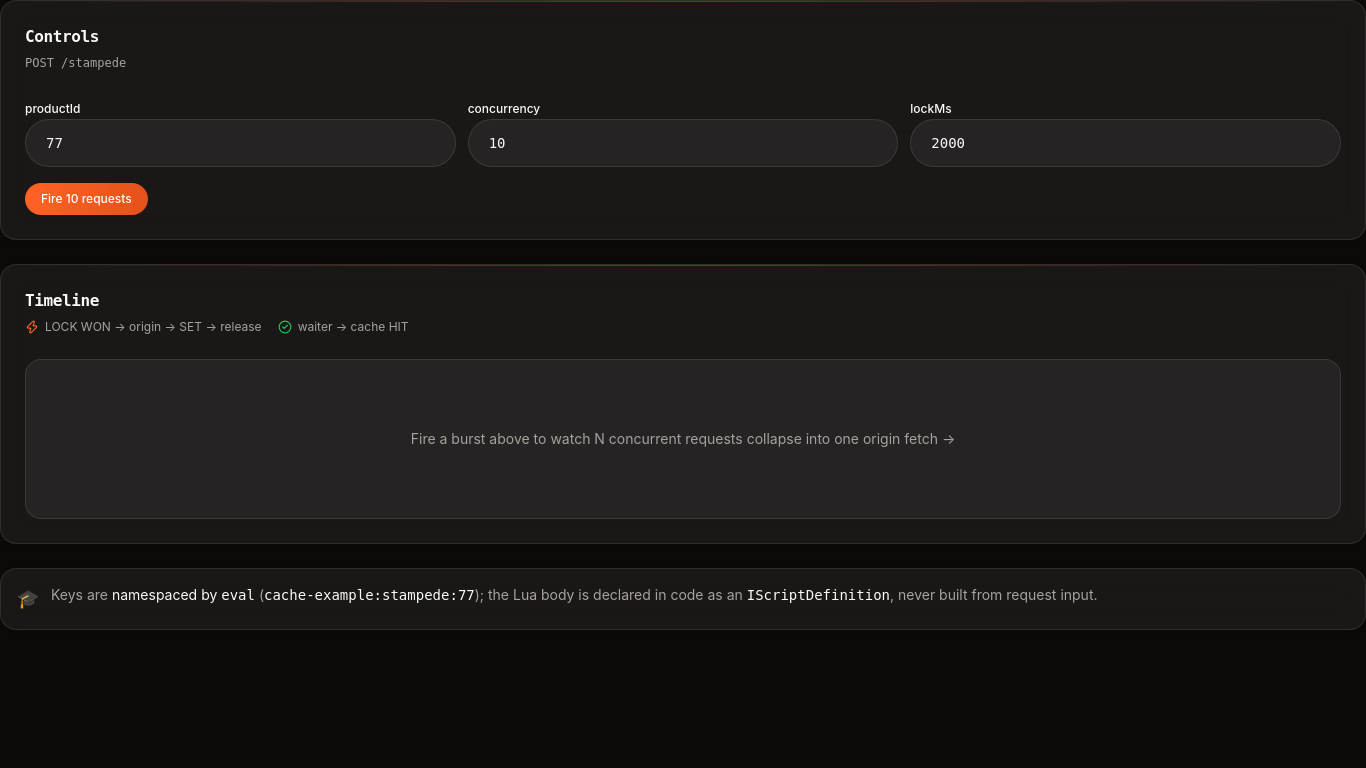
StampedeView › runs a burst and renders the timeline, result strip, script SHA, and reduction
The width and height of the screenshot is (1366, 768).
What coordinates should you click on to do the following:
click the button "Fire 10 requests"
I would click on:
 (86, 199)
Its box is [25,183,148,215].
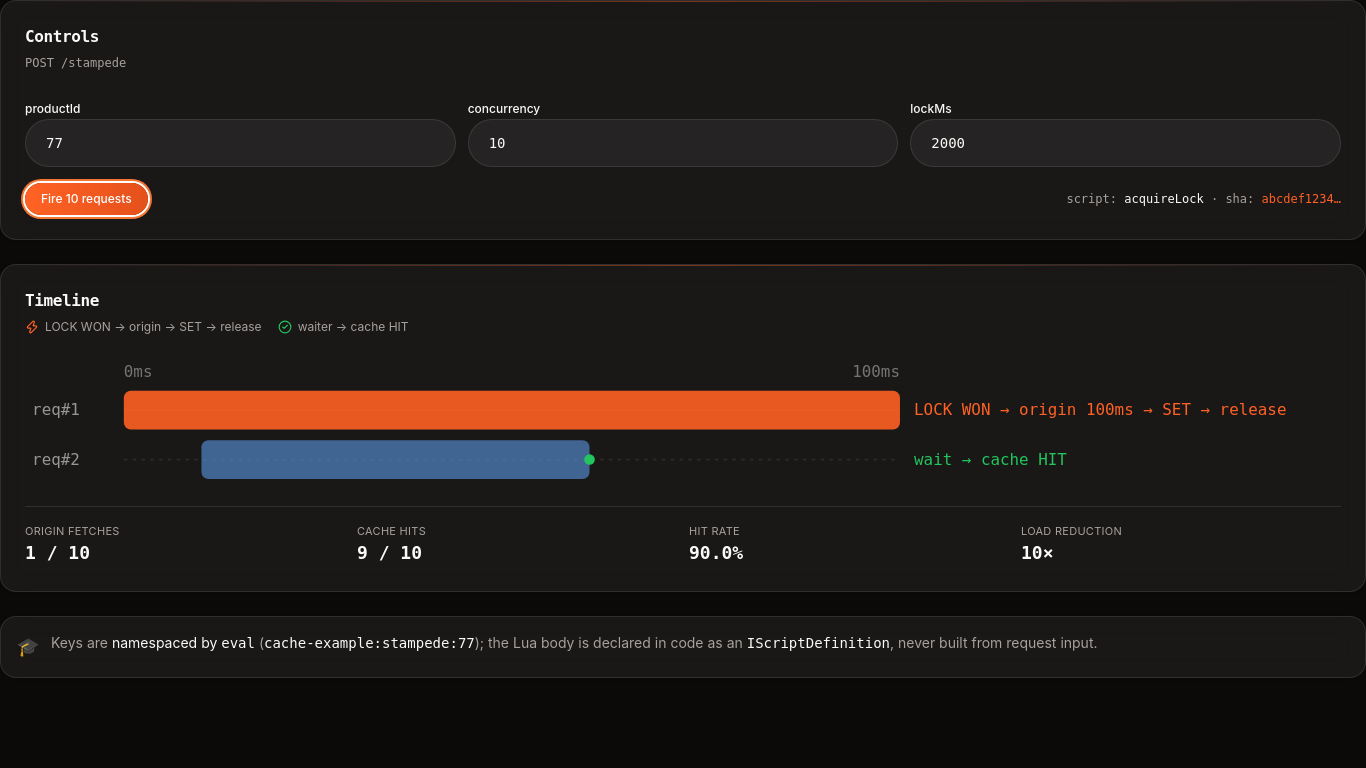
Expected: the text "hit rate" is shown, [689,524,740,538]
Expected: the text "origin fetches" is shown, [25,524,120,538]
Expected: the text "1 / 10" is shown, [25,542,90,563]
